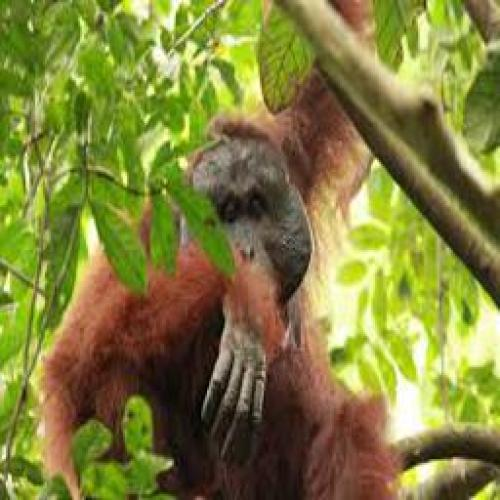orangutan-endangered: (34, 0, 432, 500)
